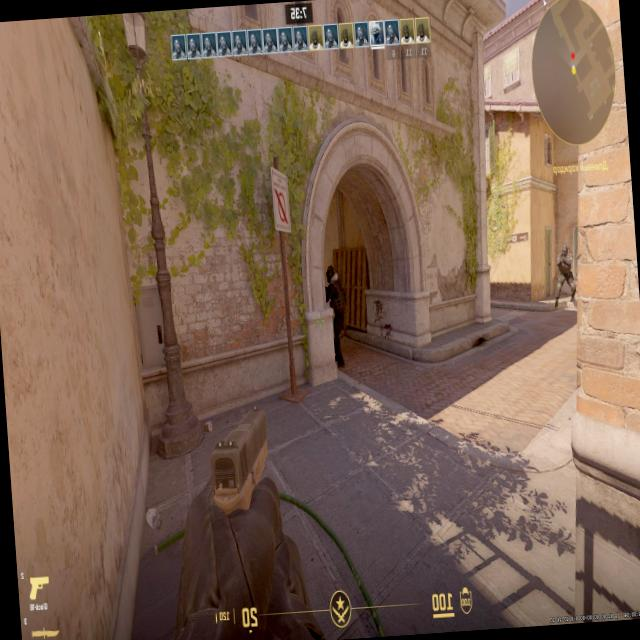CT: (322, 264, 348, 358), (553, 246, 576, 297)
CT_heat: (325, 264, 334, 278), (561, 248, 567, 255)
